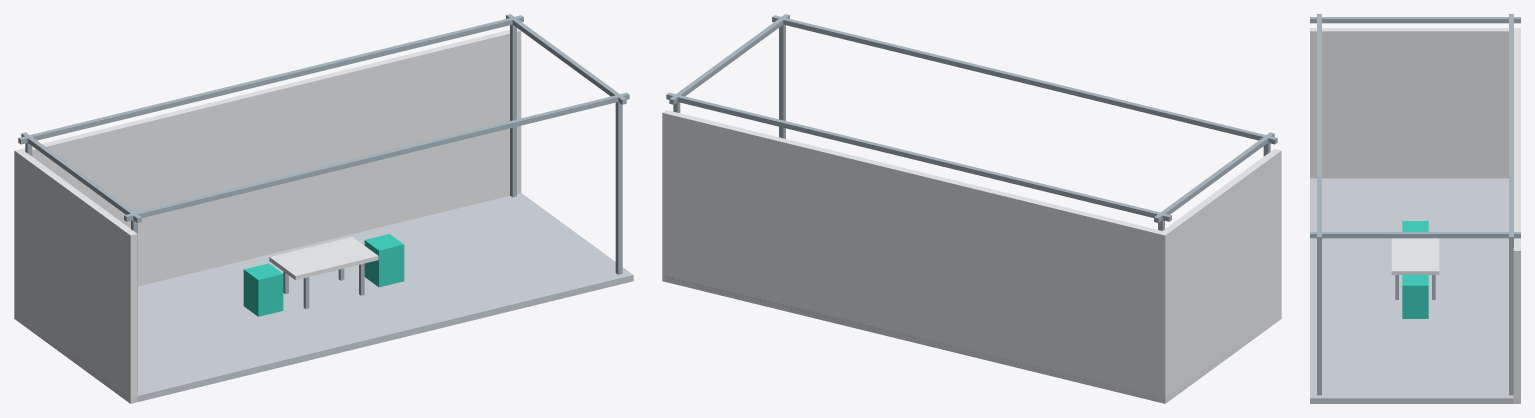
The picture shows the model from 3 angles, left to right: view 1: azimuth 30°, elevation 25°; view 2: azimuth 150°, elevation 25°; view 3: azimuth 270°, elevation 25°; orthographic projection. The views are drawn at different scales.
Visible parts, largest first — view 1: Exhibition Booth Concept; view 2: Exhibition Booth Concept; view 3: Exhibition Booth Concept.
Part boxes in pixels (box(x1,y1,x2,y2)): Exhibition Booth Concept: box(14, 14, 633, 403); Exhibition Booth Concept: box(662, 14, 1281, 403); Exhibition Booth Concept: box(1310, 14, 1520, 403).
Bounding box in the file's own units: 10 × 3.49 × 4.
